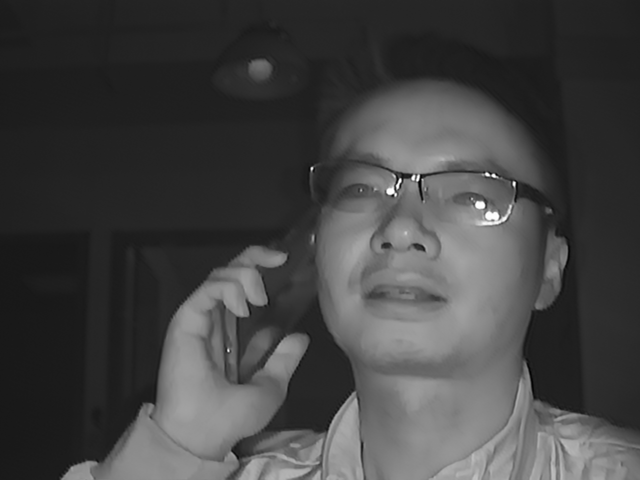hand: (156, 239, 309, 444)
